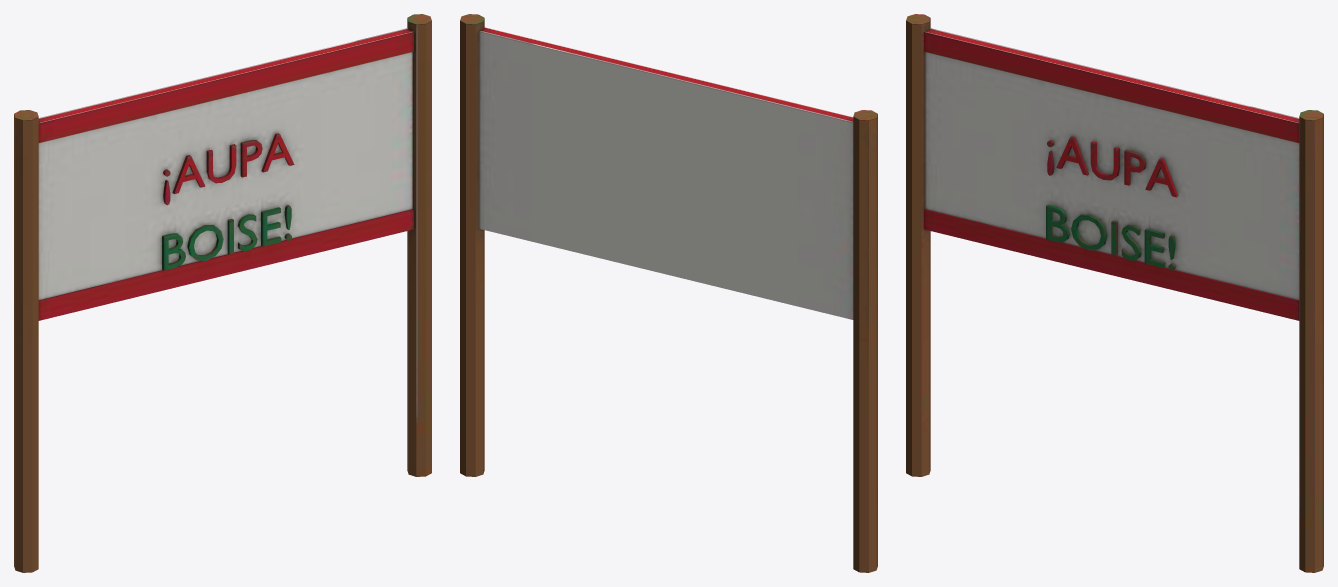
File: cartel_boise.glb
3 renders of one model, left to right at view 1: azimuth 30°, elevation 25°; view 2: azimuth 150°, elevation 25°; view 3: azimuth 330°, elevation 25°, orthographic.
Parts seen in each view (by area): view 1: cartel_boise; view 2: cartel_boise; view 3: cartel_boise.
Part boxes in pixels (box(x1,y1,x2,y2)): cartel_boise: box(14, 14, 431, 572); cartel_boise: box(460, 14, 877, 572); cartel_boise: box(906, 14, 1323, 572).
Size of the model in its own units: 2.64 by 2.75 by 0.14.
1 material, 1 textured.
